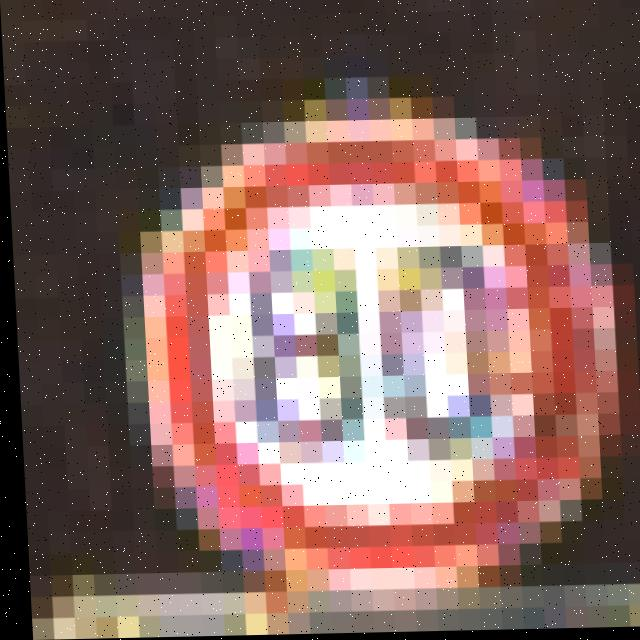speed_limit_80: (100, 96, 618, 602)
